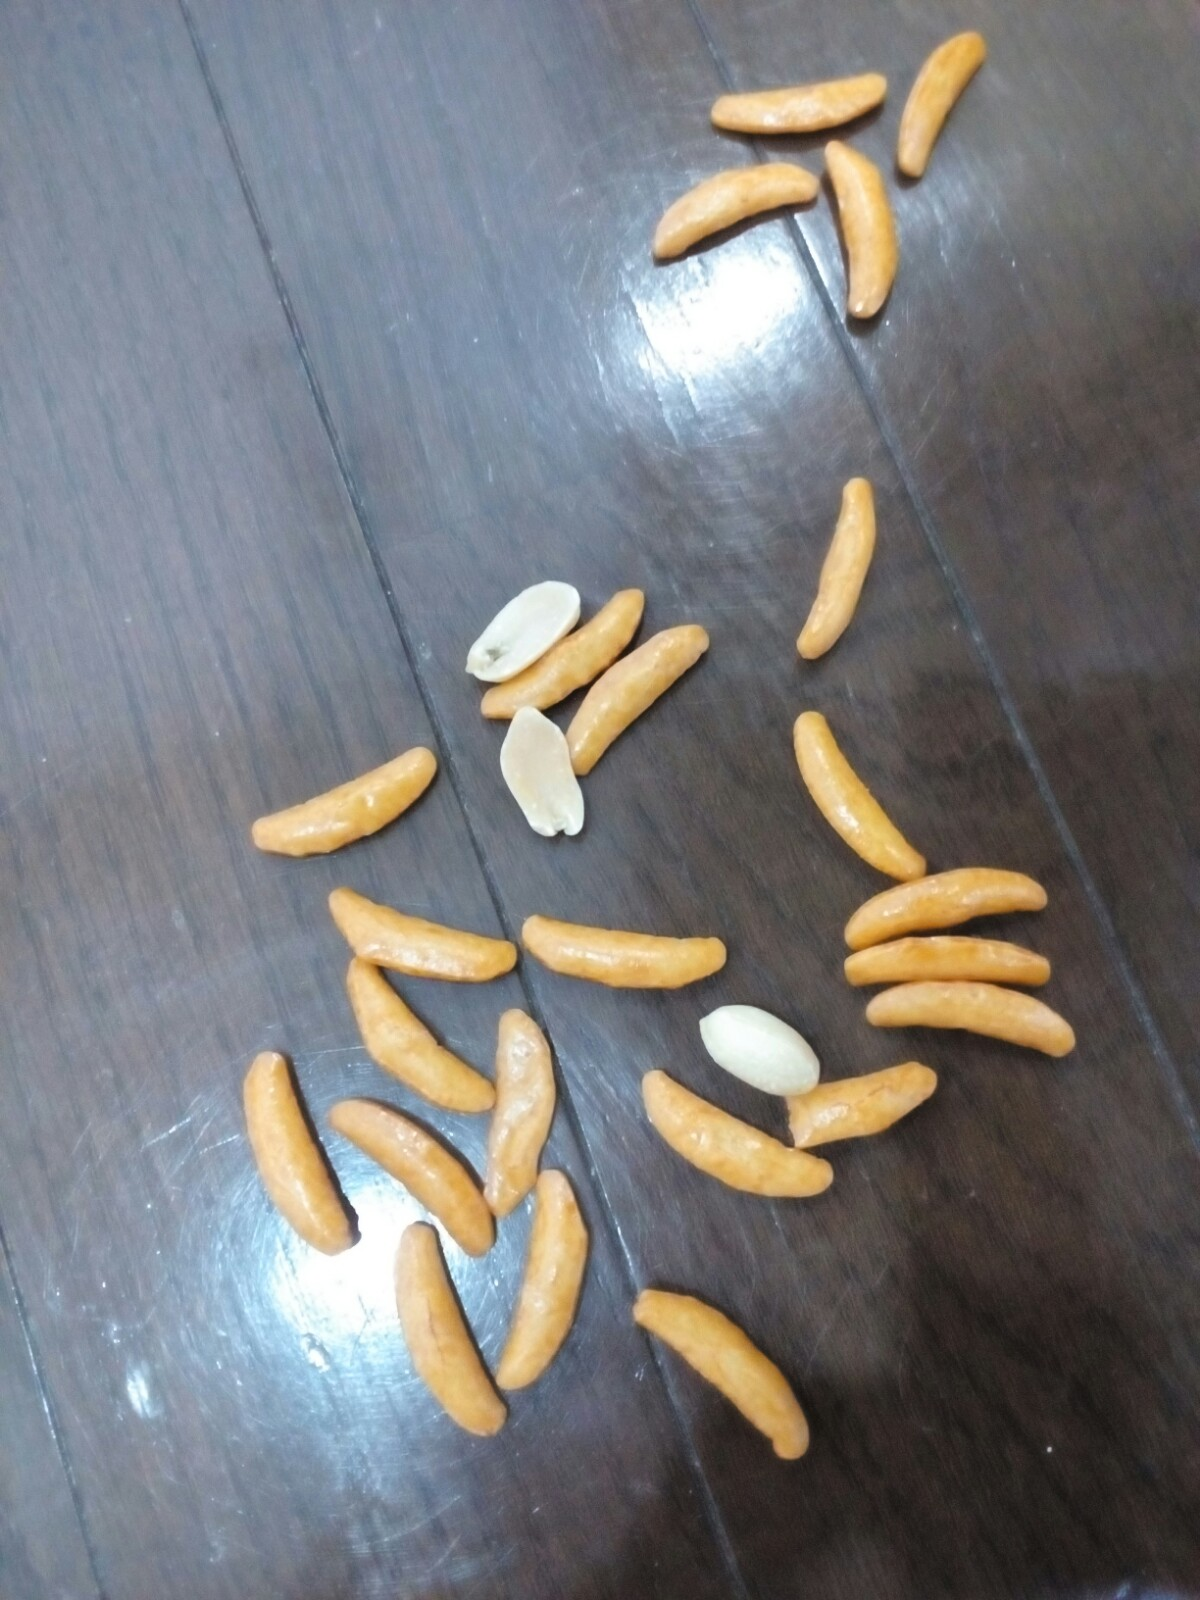peanut: (458, 563, 586, 689), (495, 697, 599, 850), (695, 995, 828, 1112)
